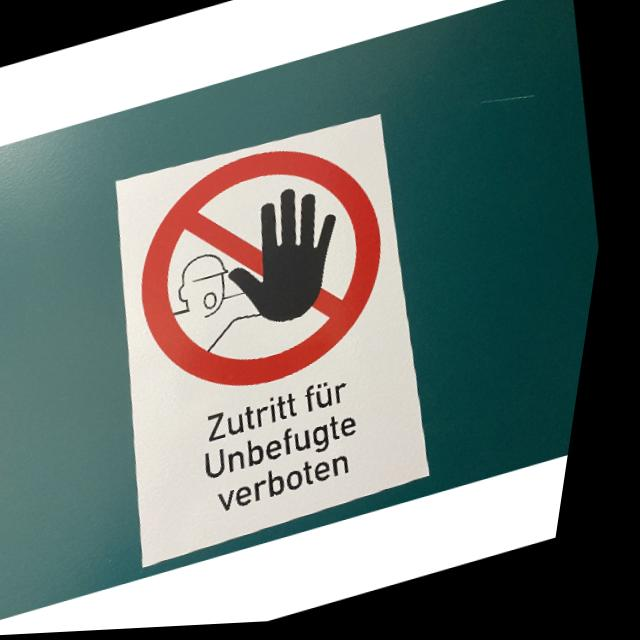No access for unauthorized persons: (108, 123, 429, 420)
